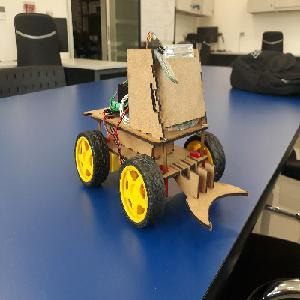Robot: (74, 33, 250, 232)
